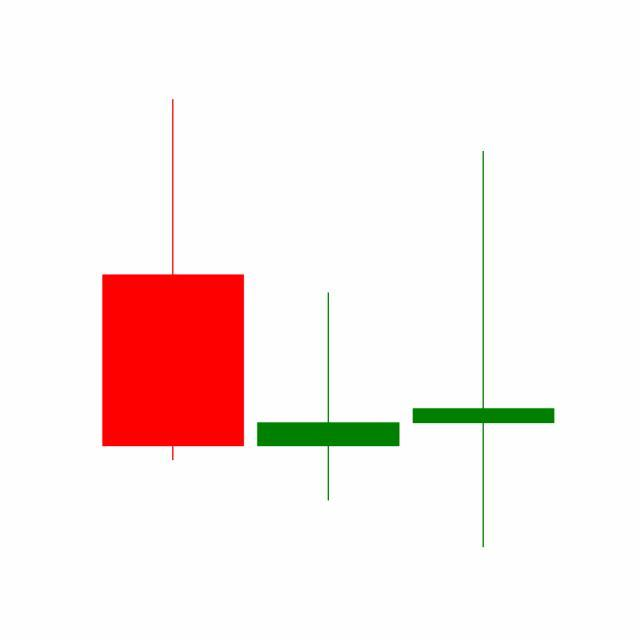Spinning Top: (250, 291, 407, 505)
